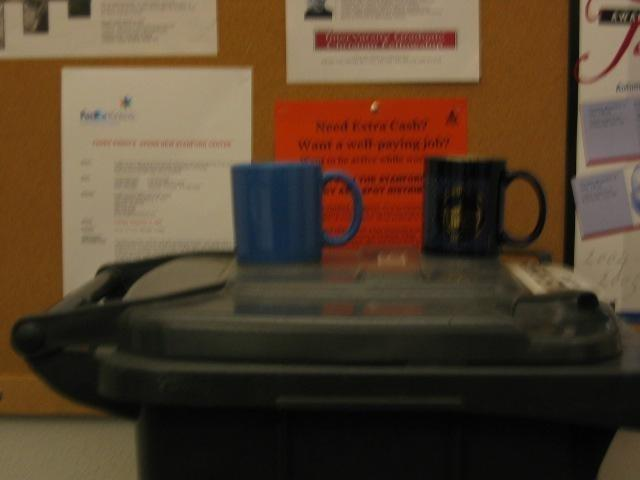cup-handle: (231, 156, 361, 271), (424, 150, 548, 257)
